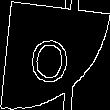O_N: (33, 26, 77, 84)
